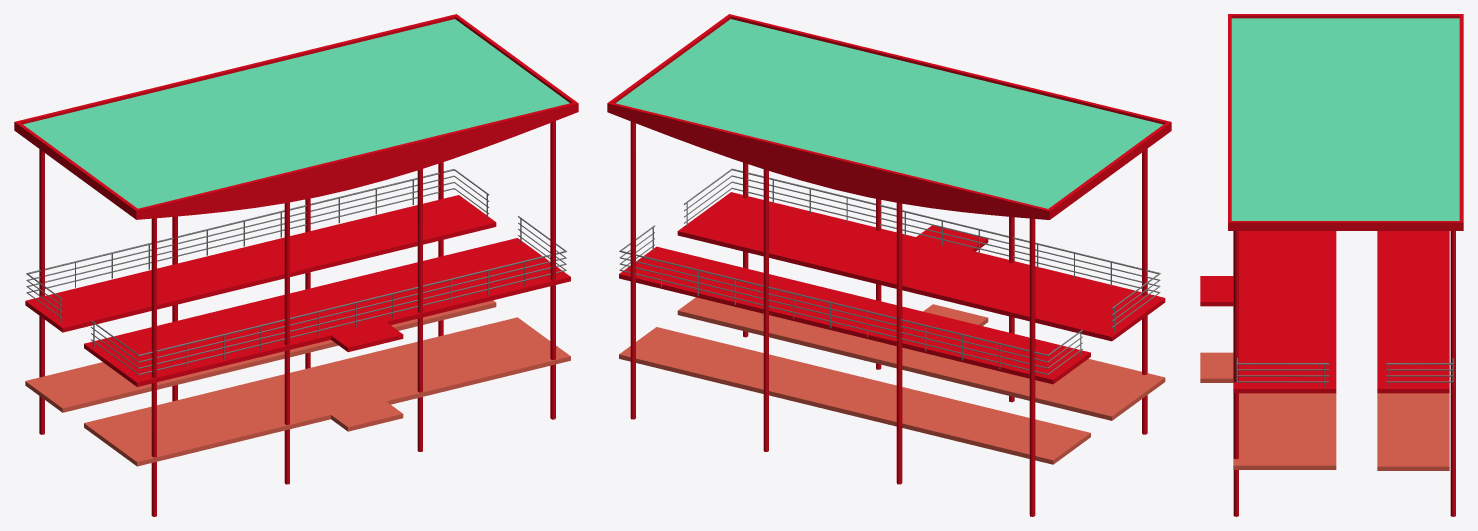
Rendered from RCStartPoint 1.fbx.
The picture shows the model from 3 angles, left to right: view 1: azimuth 30°, elevation 25°; view 2: azimuth 150°, elevation 25°; view 3: azimuth 270°, elevation 25°; orthographic projection. The views are drawn at different scales.
Parts seen in each view (by area): view 1: RC_Start; view 2: RC_Start; view 3: RC_Start.
Boxes of the visible parts, left/top/right/bottom form: RC_Start: left=14, top=14, right=578, bottom=516; RC_Start: left=607, top=14, right=1171, bottom=516; RC_Start: left=1200, top=14, right=1463, bottom=516.
Bounding box in the file's own units: 4121 × 2793 × 2197.
